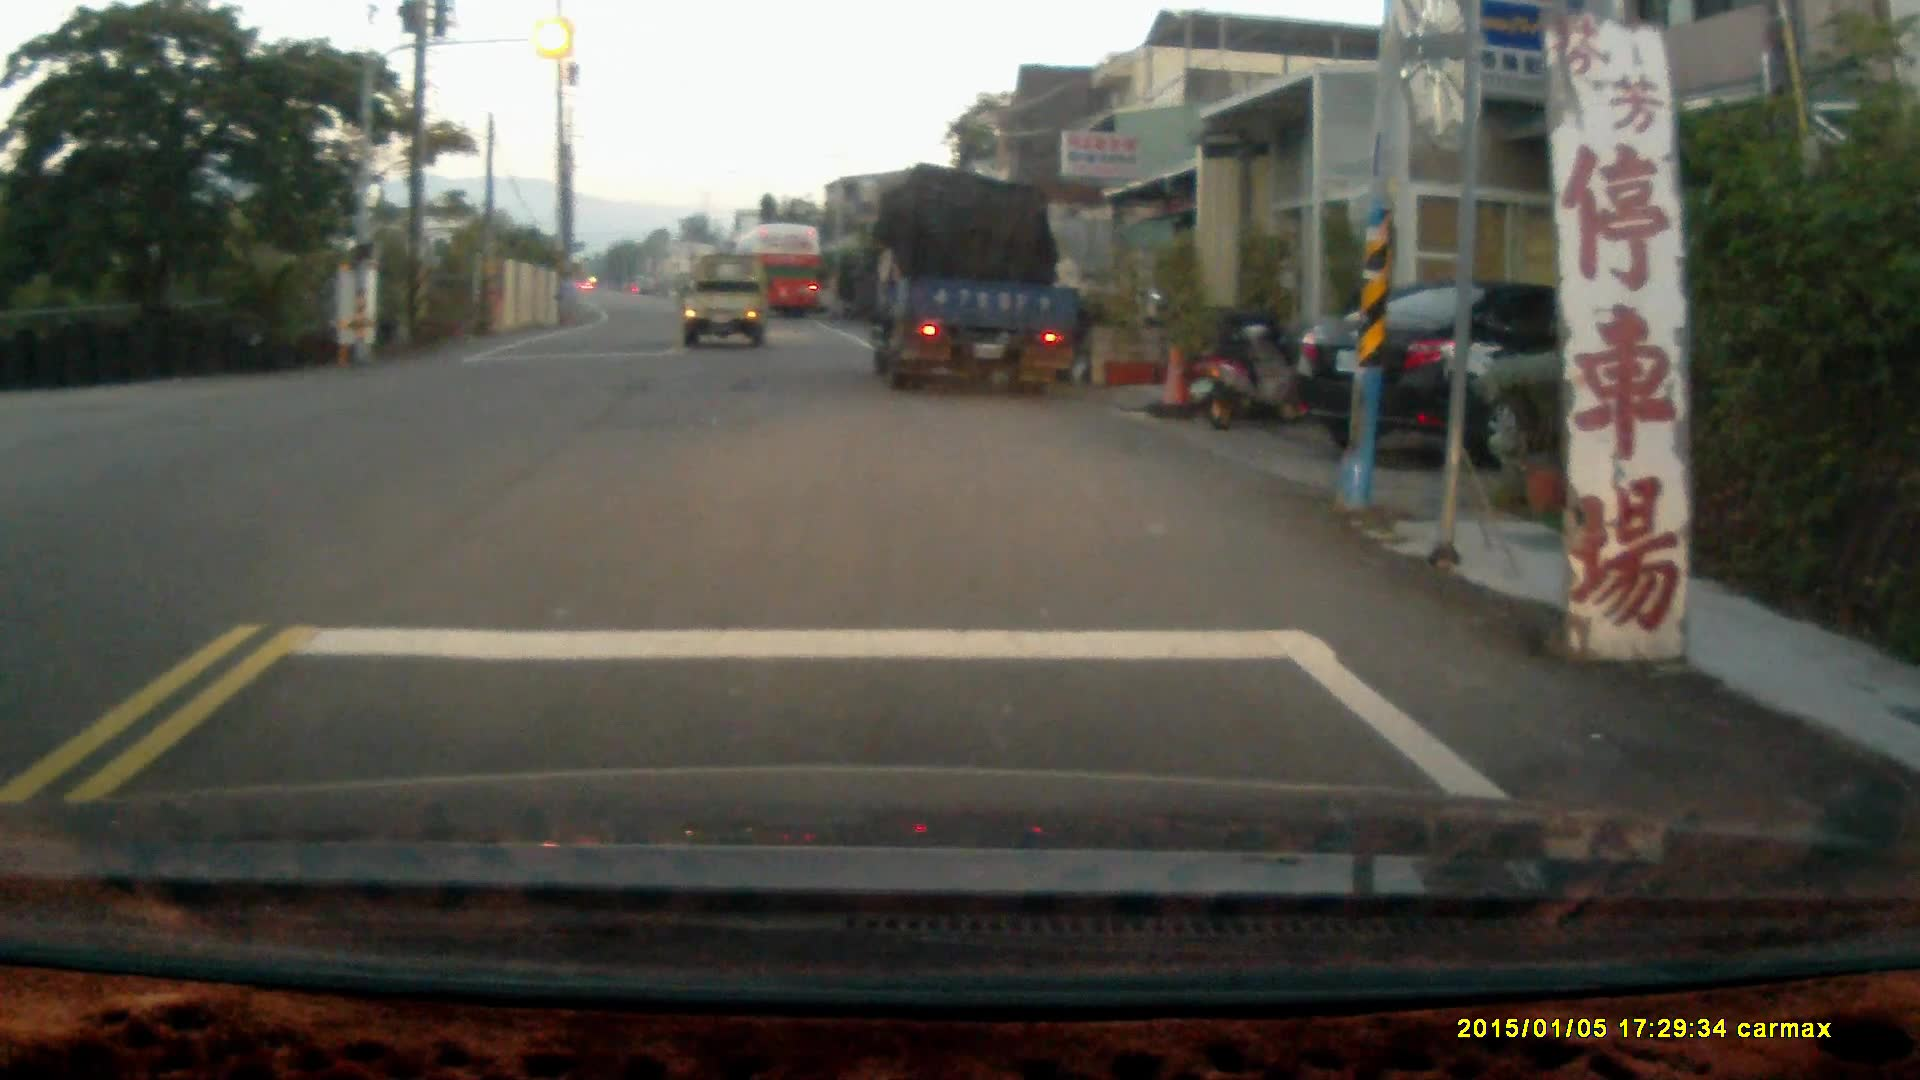vehicle: (1288, 284, 1718, 475), (876, 175, 1091, 392), (735, 227, 828, 328), (684, 256, 774, 347)
